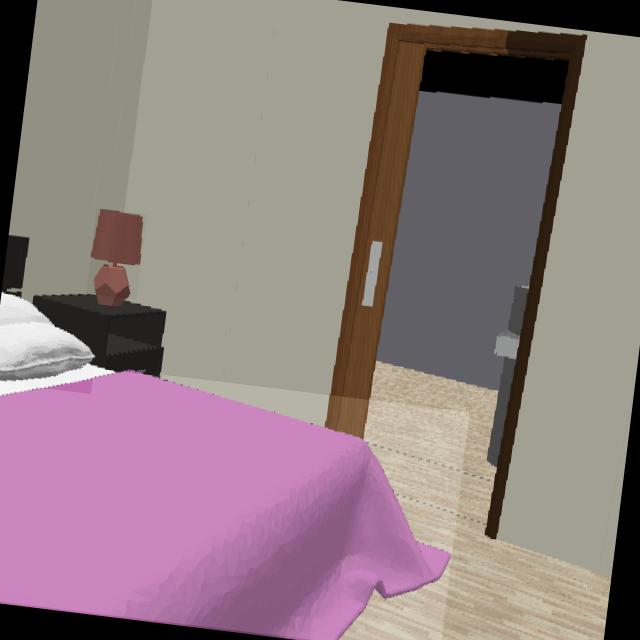bed: (0, 368, 451, 640)
lamp: (90, 209, 143, 308)
nighttable: (33, 294, 167, 376)
pillow: (0, 292, 95, 381)
